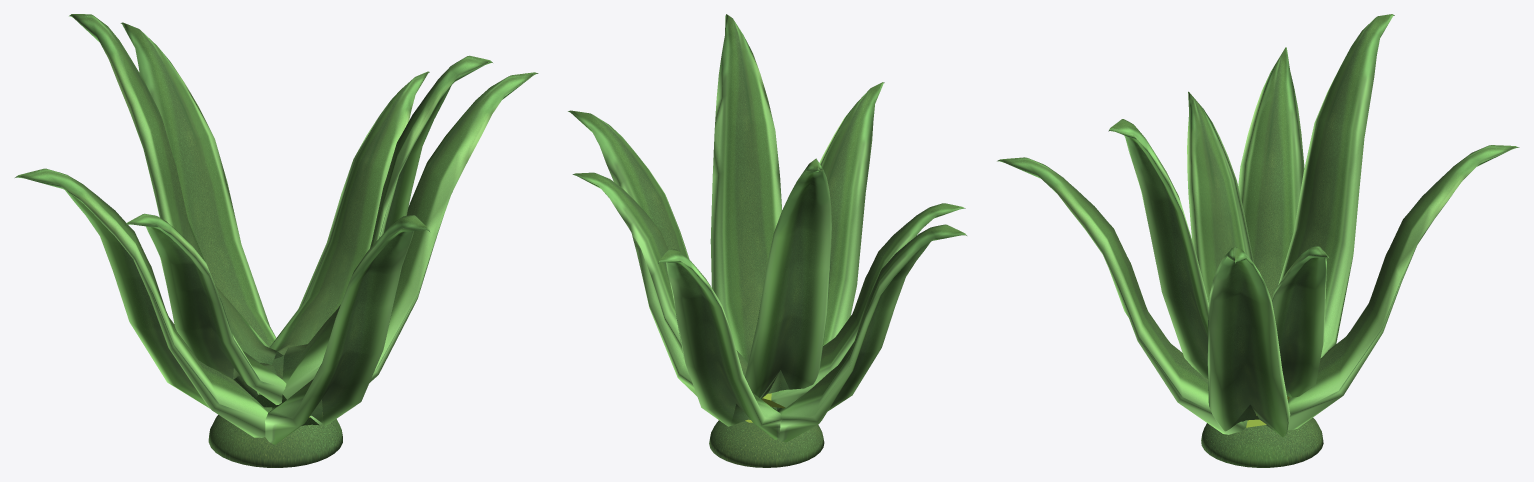
Rendered from planta1 arreglada.fbx.
3 views of the same model, side by side, from view 1: azimuth 30°, elevation 25°; view 2: azimuth 150°, elevation 25°; view 3: azimuth 270°, elevation 25° (orthographic). The views are drawn at different scales.
Visible parts, largest first — view 1: Aloe; view 2: Aloe; view 3: Aloe.
Boxes of the visible parts, x1,y1,x2,y2 form: Aloe: (15, 14, 538, 467); Aloe: (568, 14, 966, 467); Aloe: (997, 14, 1519, 467).
Size of the model in its own units: 447 by 355 by 449.
Materials: 1 (1 with a texture image).
